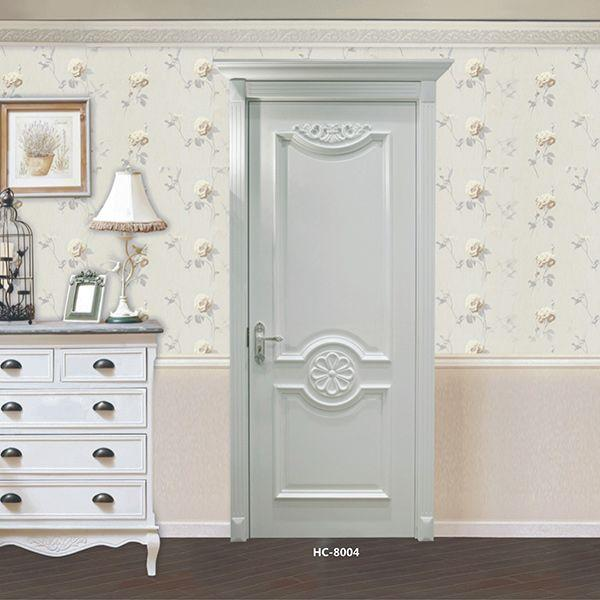door: (236, 73, 434, 541)
